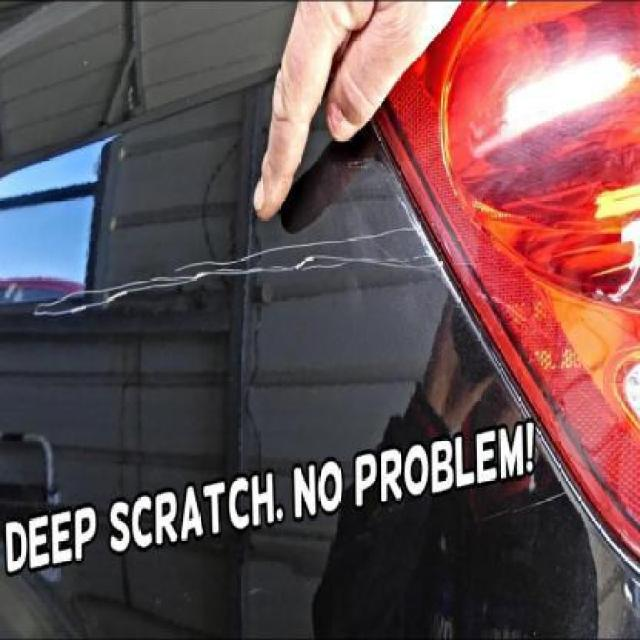scratch: (19, 220, 496, 345)
